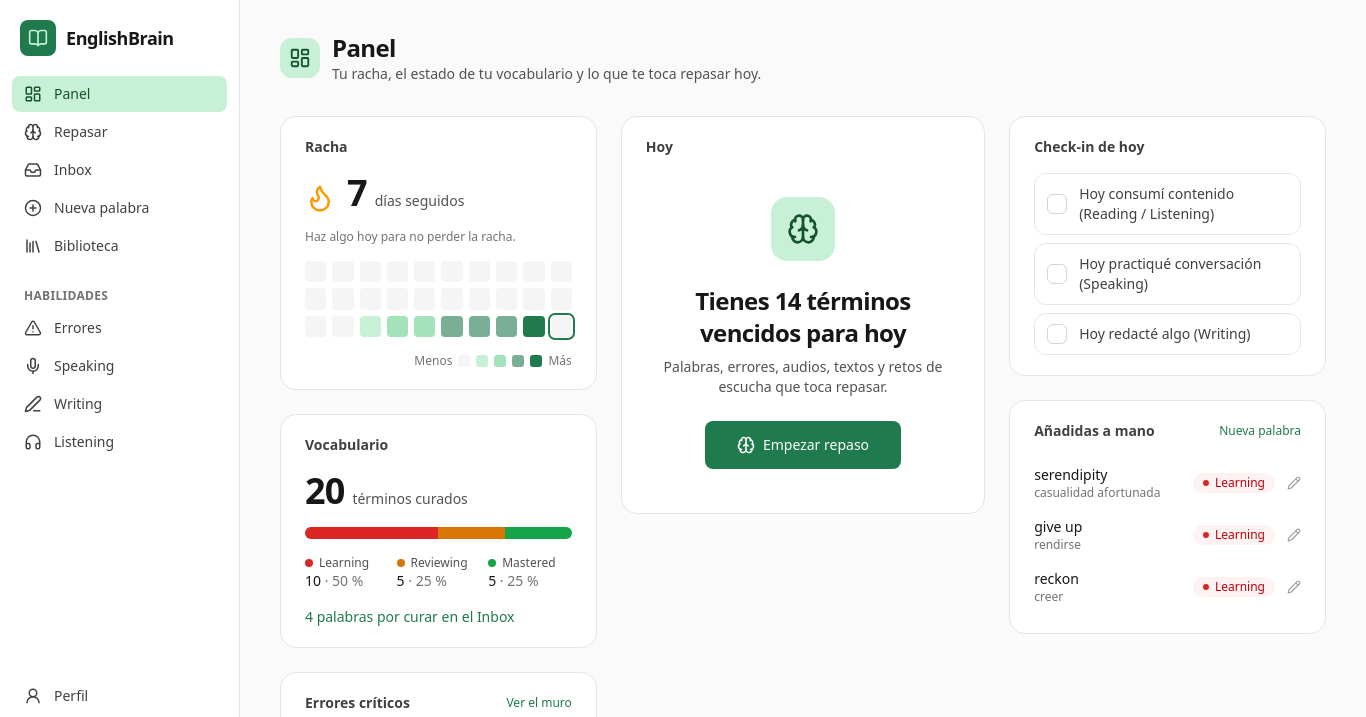
Test: 17.3 · Cola del día › "Tienes 14 términos vencidos para hoy" y el botón abre la sesión Anki directamente
Expected: the text "Tienes 14 términos vencidos para hoy" is shown, 695,284 -> 911,349
What coordinates should you click on to do the following:
click the button "Empezar repaso"
I would click on:
 (803, 445)
Its box is 705,421 -> 901,469.
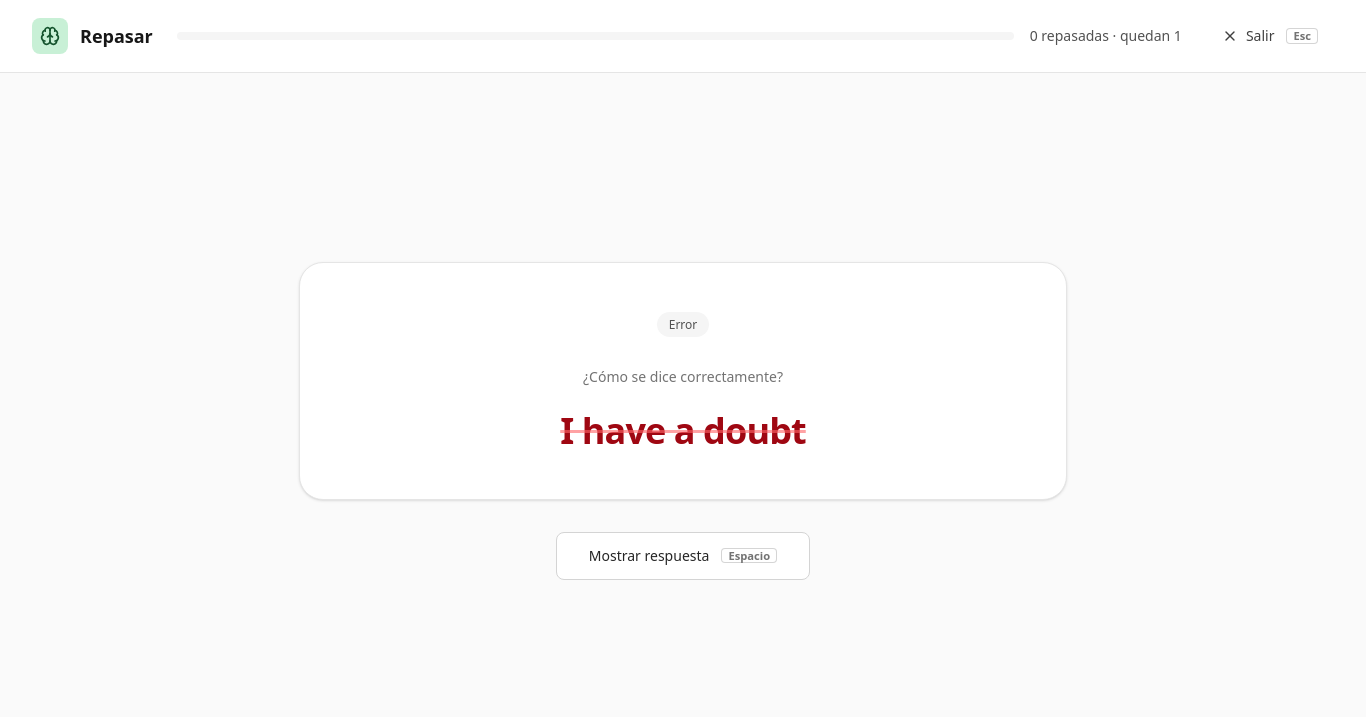
Result: the element named "Tarjeta" shows "I have a doubt" at 560,406 -> 806,454
